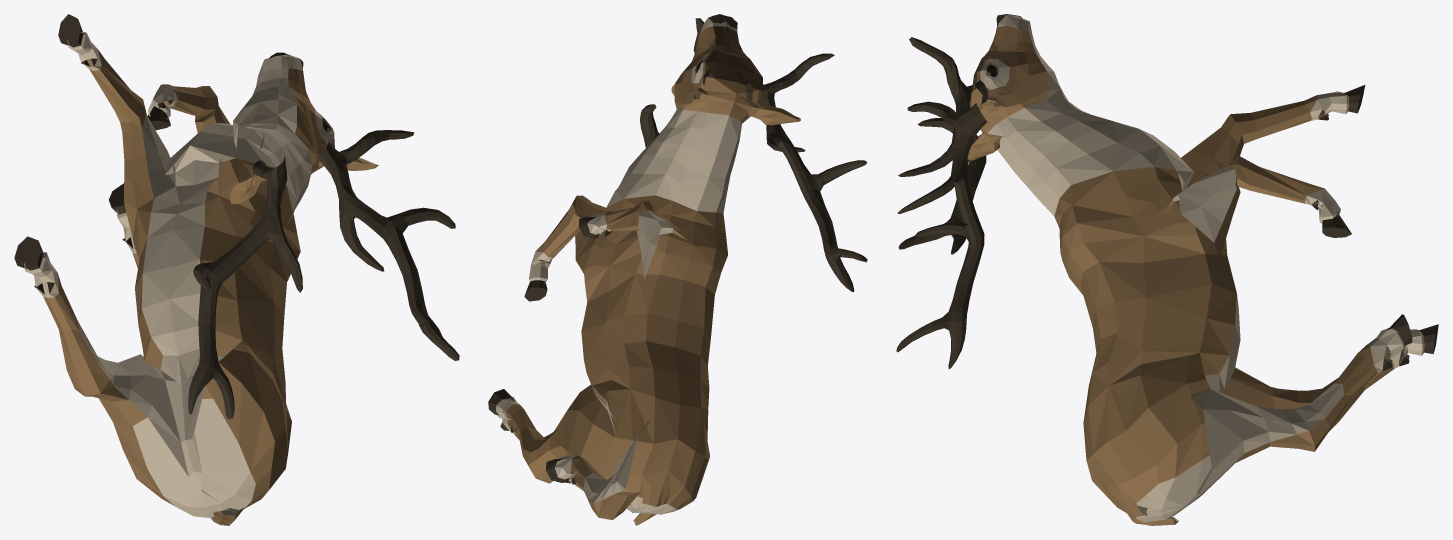
Rendered from stag-gallop-2.glb.
The picture shows the model from 3 angles, left to right: view 1: azimuth 30°, elevation 25°; view 2: azimuth 150°, elevation 25°; view 3: azimuth 270°, elevation 25°; orthographic projection. The views are drawn at different scales.
Size of the model in its own units: 0.8649 by 1.69 by 1.65.
